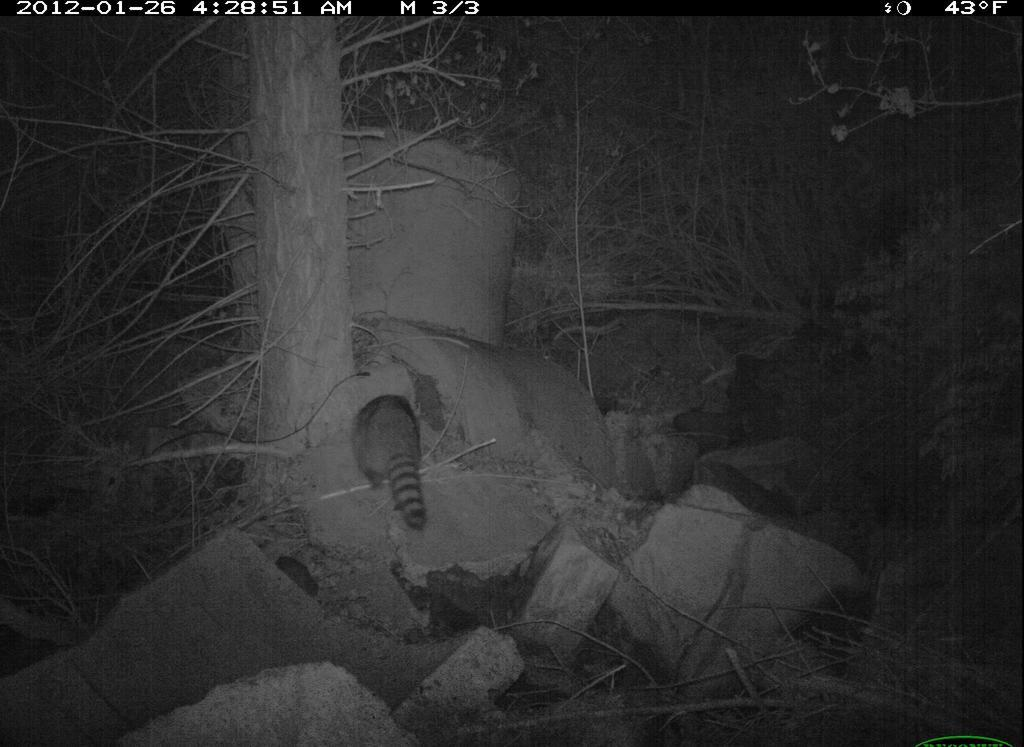raccoon: (344, 370, 450, 551)
